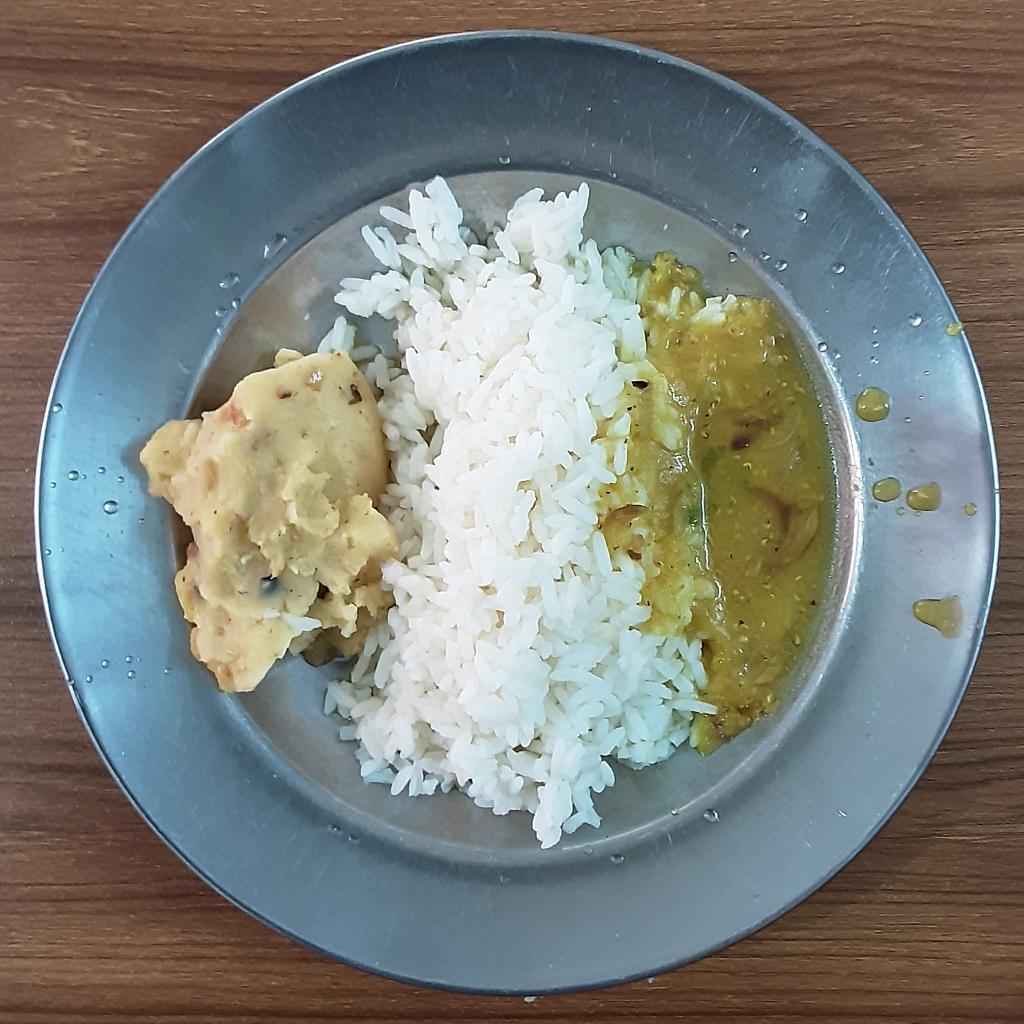daal: (596, 248, 837, 747)
potato-mashed: (140, 348, 408, 696)
rice: (321, 173, 723, 852)
